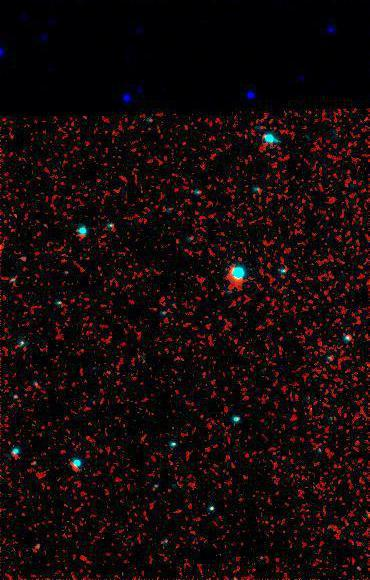star: (26, 212, 56, 242)
